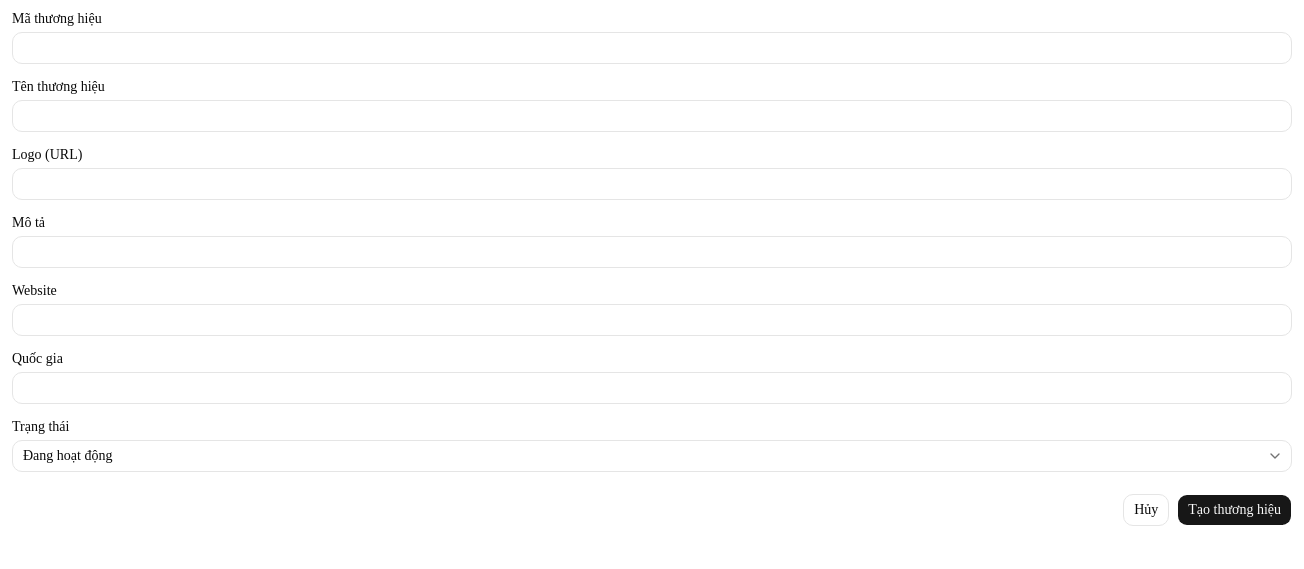
Scenario: BrandCreateForm (T041 Phase D) › rejects a non-URL website value client-side, mirroring the backend @IsUrl() constraint
This screenshot has width=1304, height=569.
Step 1. Type "X" into the field labelled "Mã thương hiệu" → [652, 48], box [12,32,1292,64]
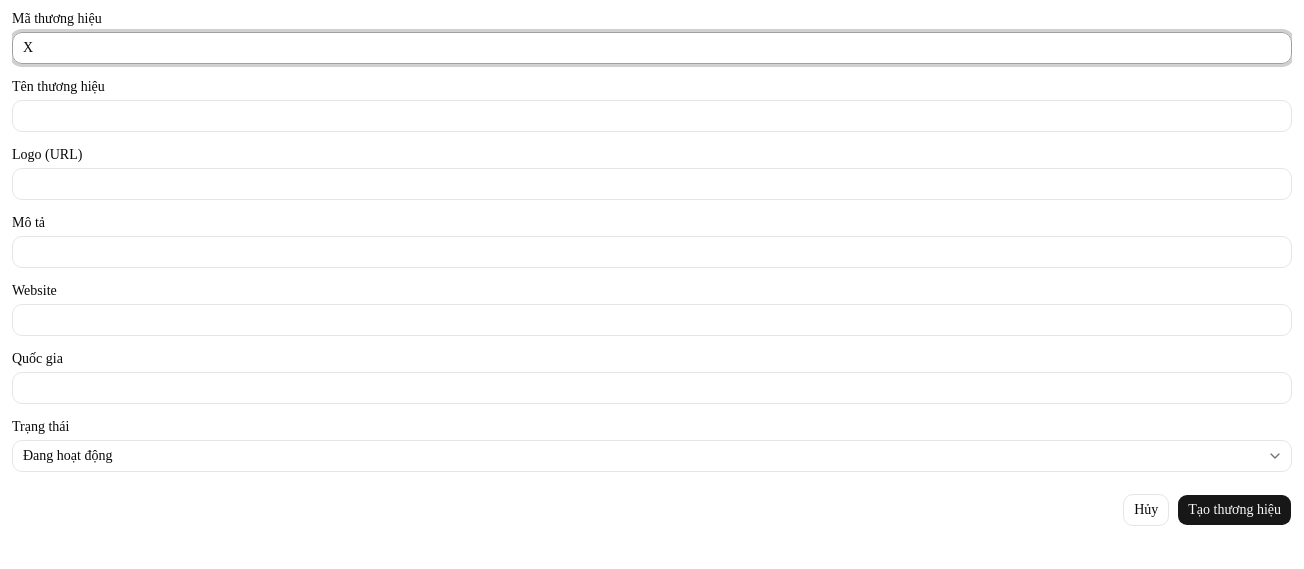
Step 2. Type "Xy" into the field labelled "Tên thương hiệu" → [652, 116], box [12,100,1292,132]
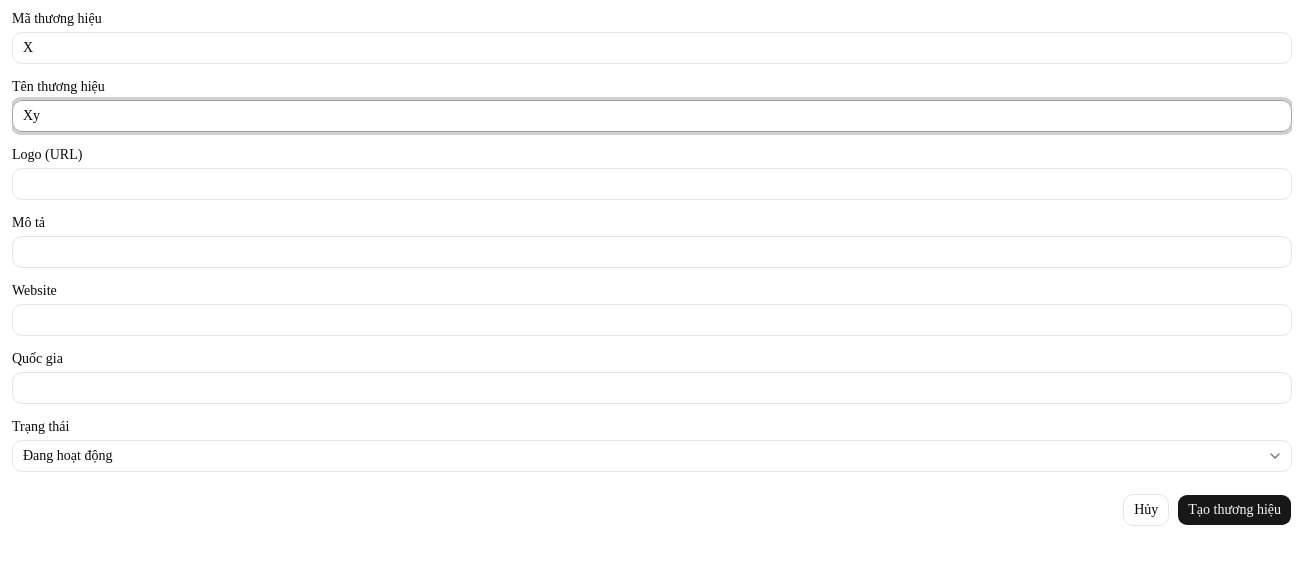
Step 3. Type "not-a-url" into the field labelled "Website" → [652, 320], box [12,304,1292,336]
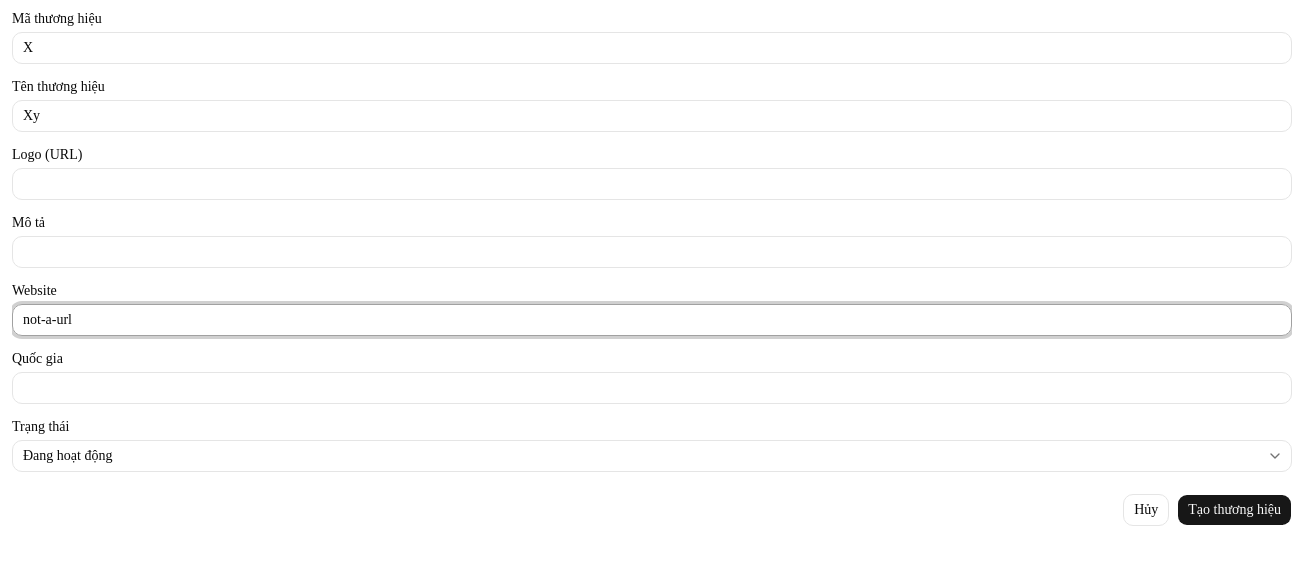
Step 4. Click the button "Tạo thương hiệu" → [1235, 510], box [1177,494,1292,526]
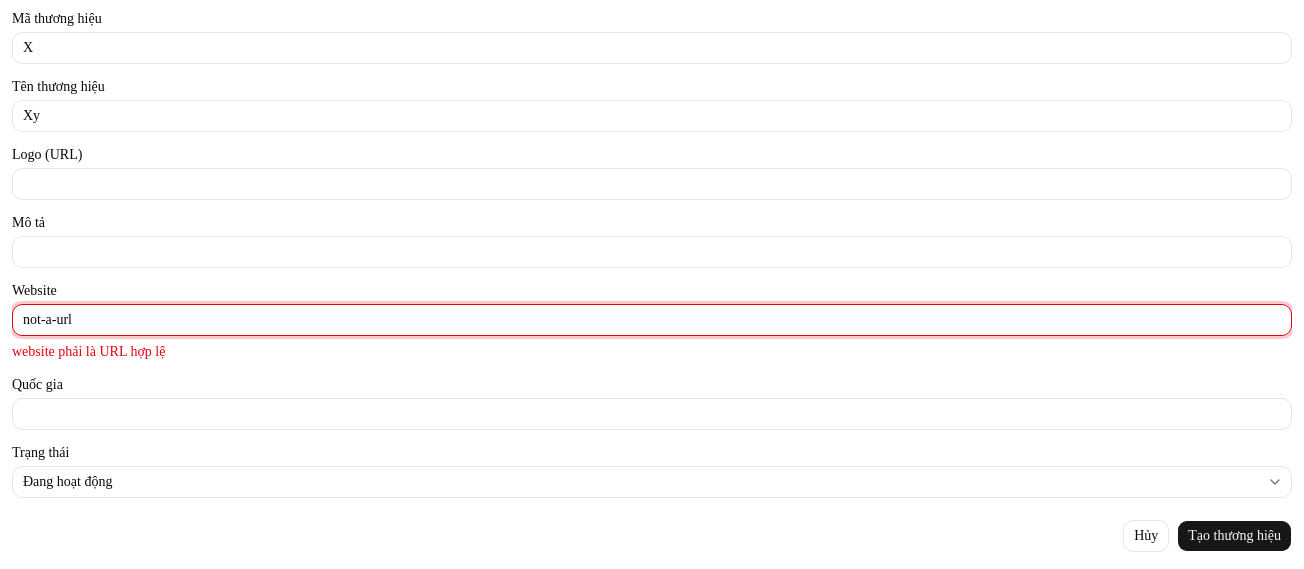
Result: the text "website phải là URL hợp lệ" is shown at [12,344,166,359]
